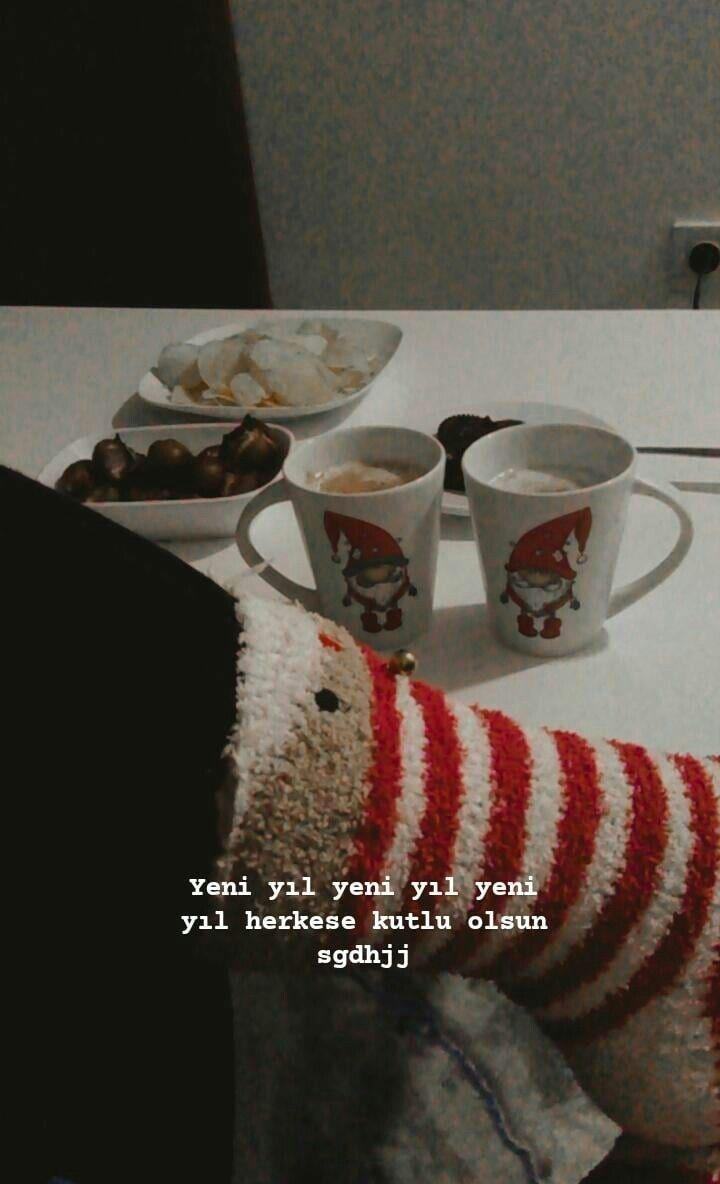cup-handle: (461, 423, 696, 661), (238, 430, 448, 657)
